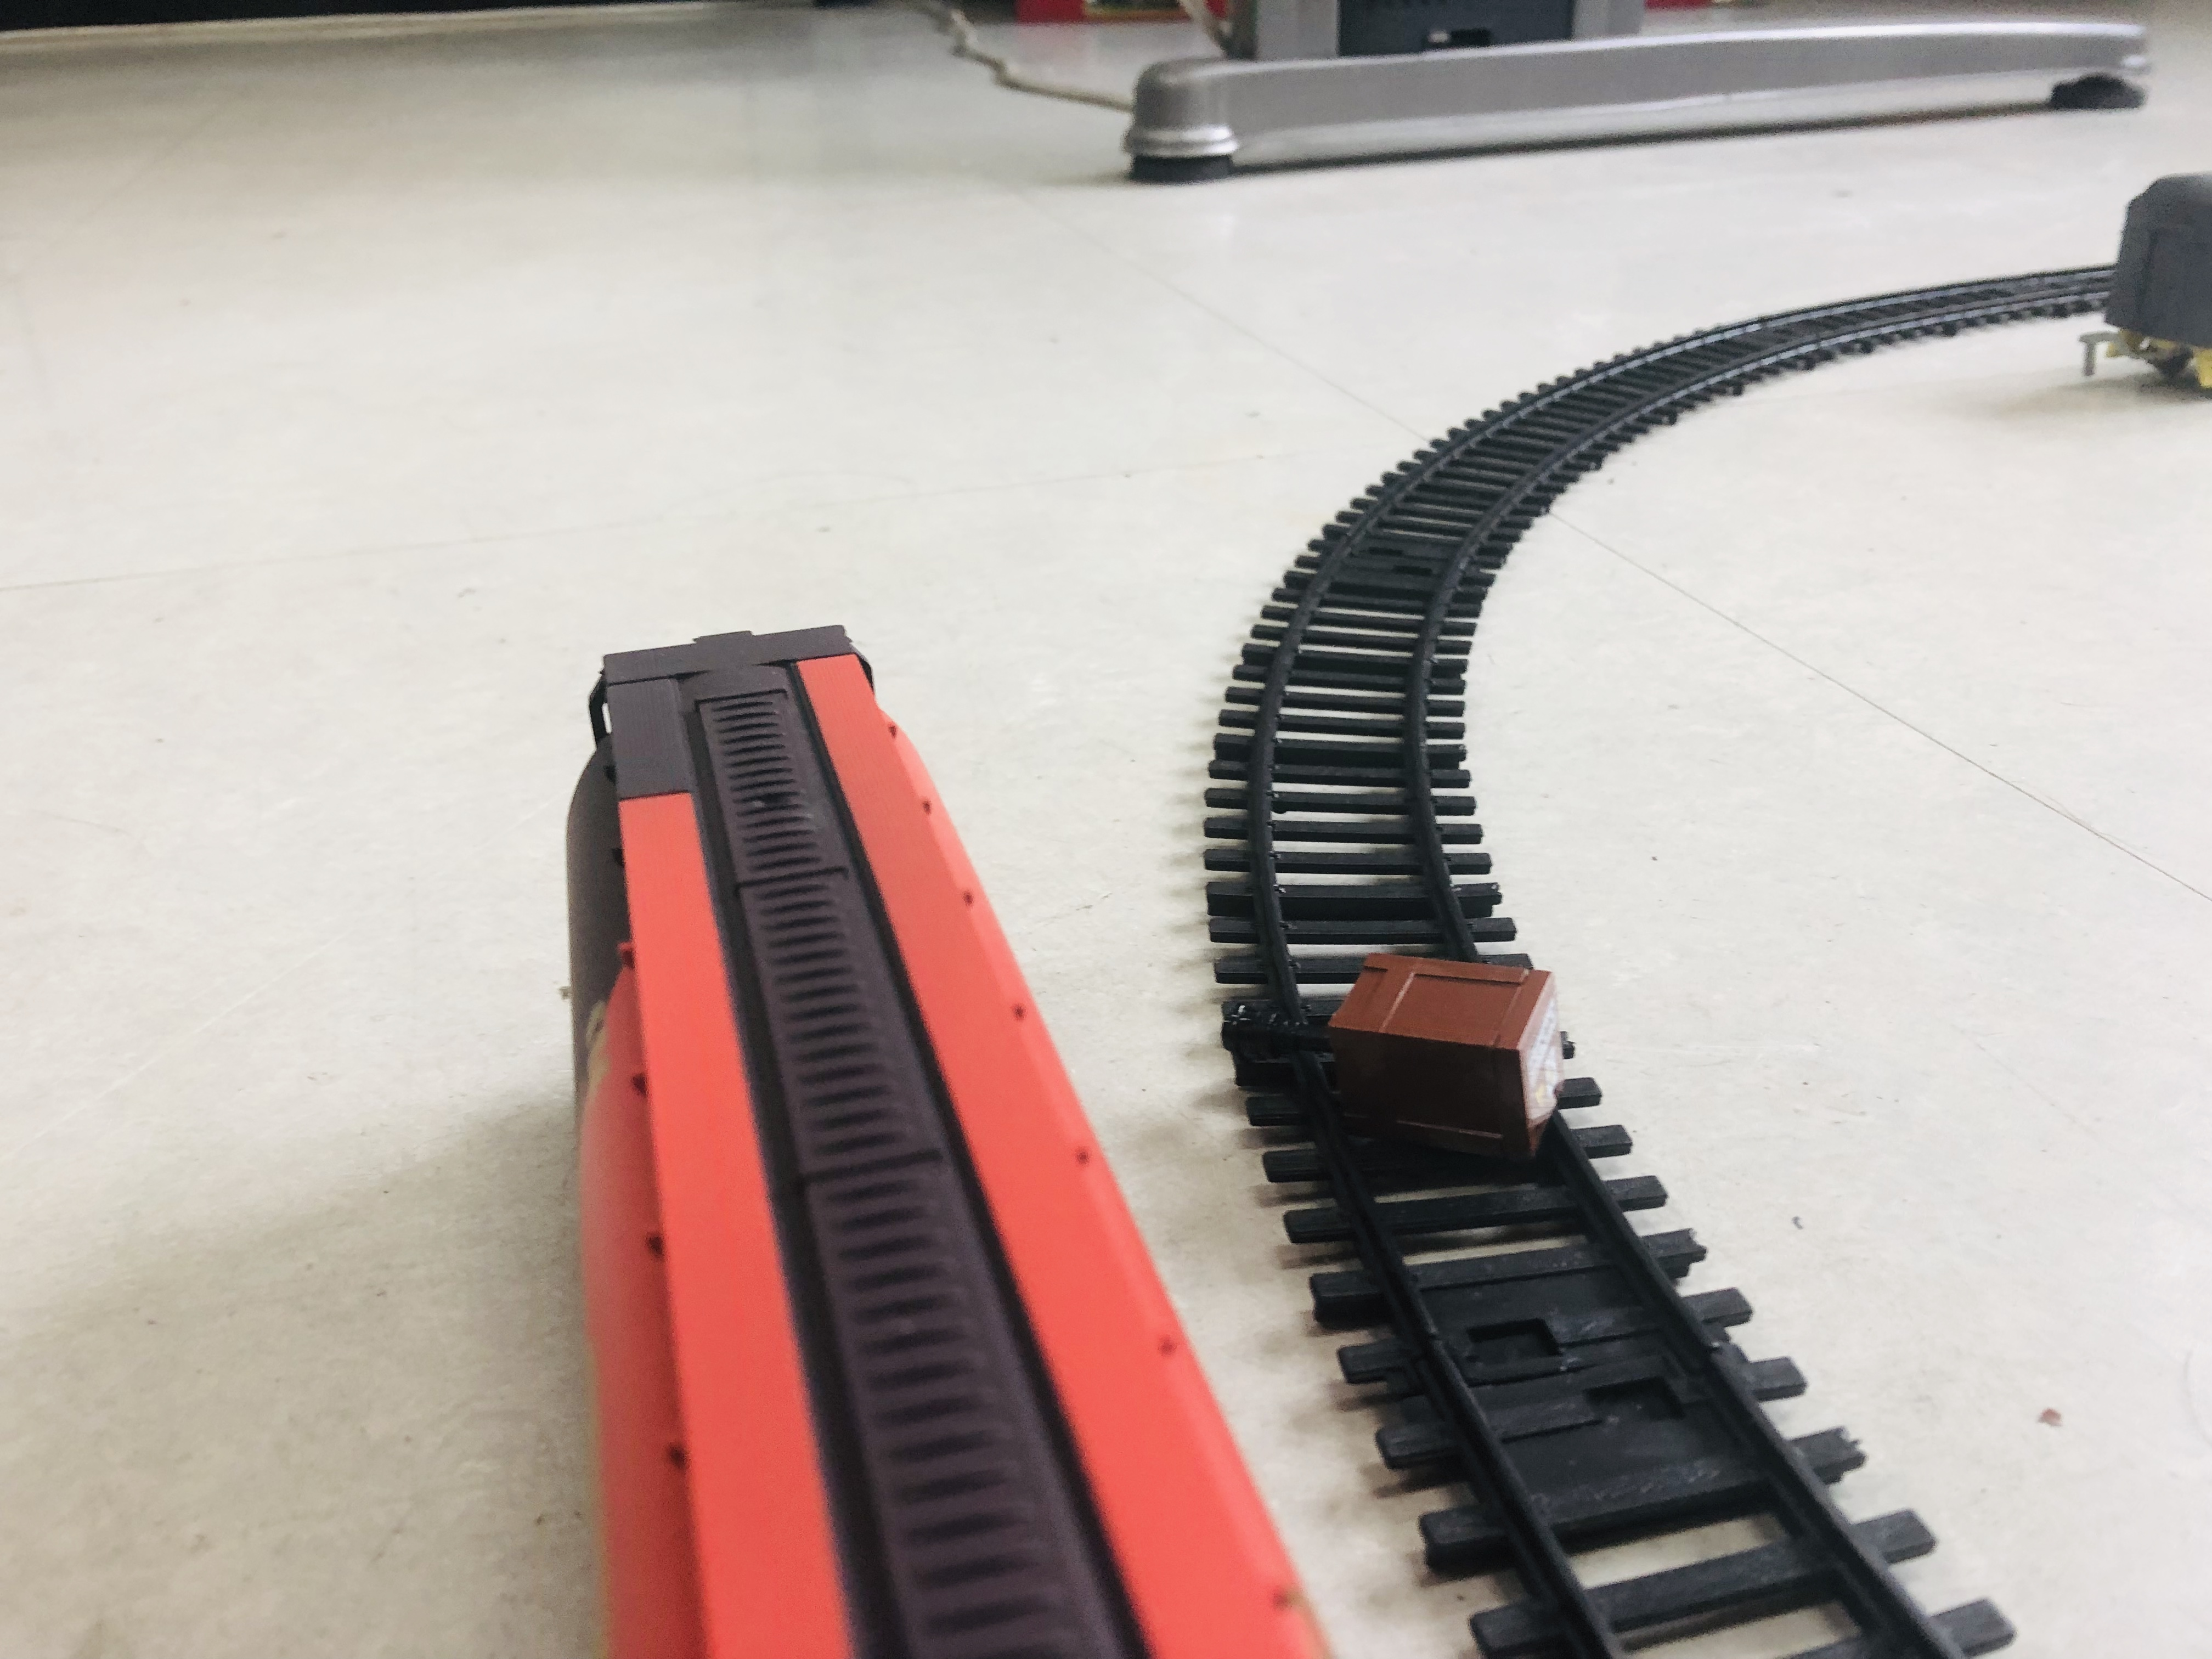box: (1246, 918, 1593, 1149)
